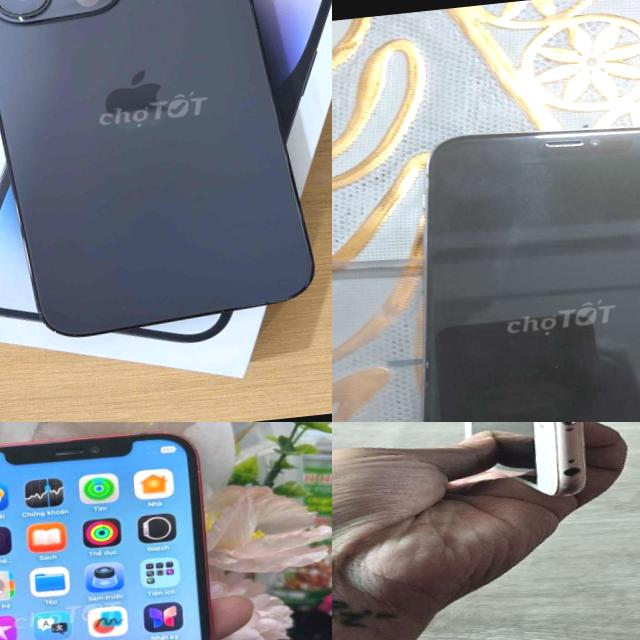gen_11: (0, 422, 246, 640)
gen_14: (0, 0, 325, 344)
gen_6: (465, 422, 589, 495)
gen_x_xs: (360, 106, 640, 422)
